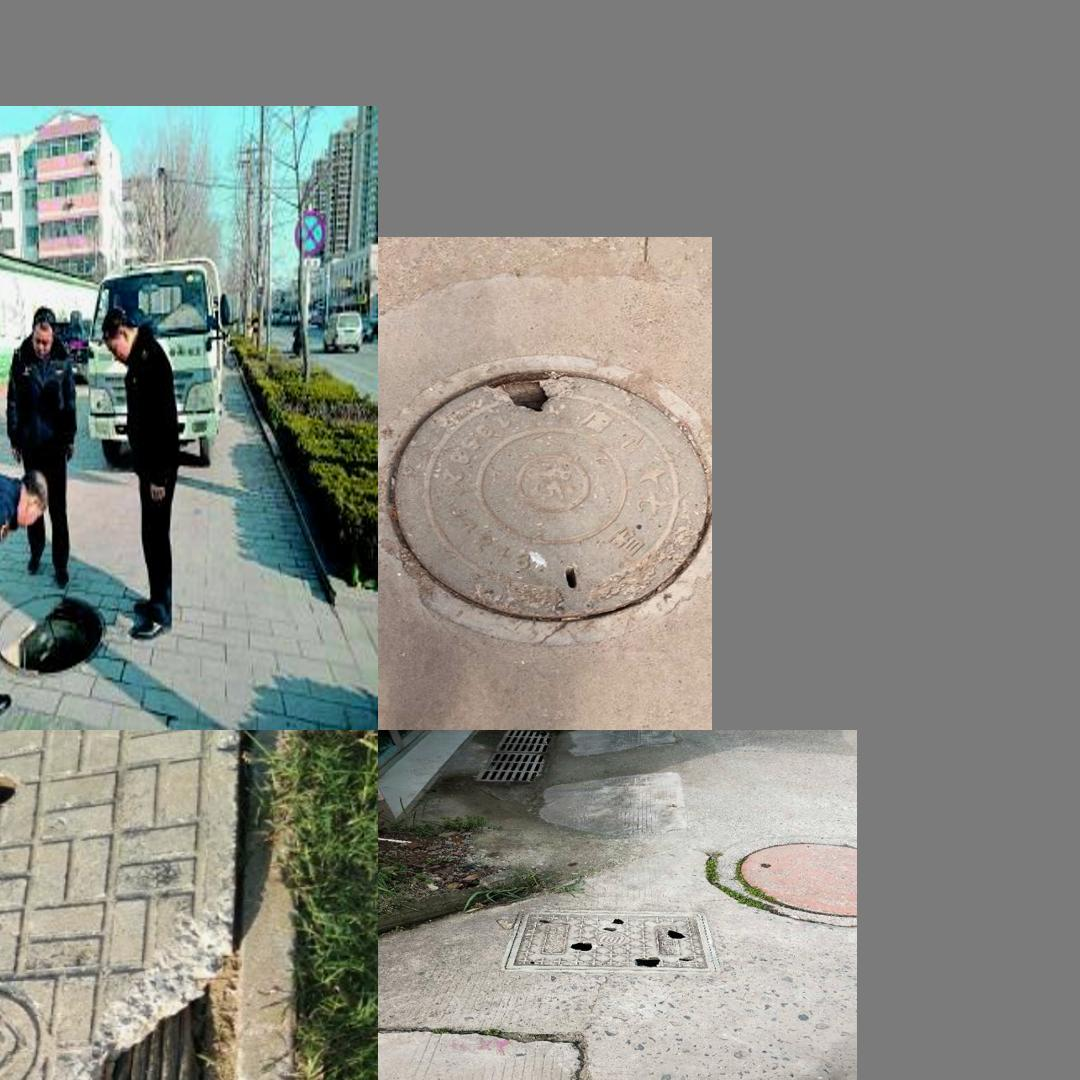broke: (0, 735, 298, 1080), (382, 347, 709, 642), (501, 909, 718, 973), (0, 575, 115, 677)
